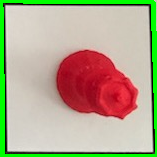Red Queen: (52, 43, 139, 125)
